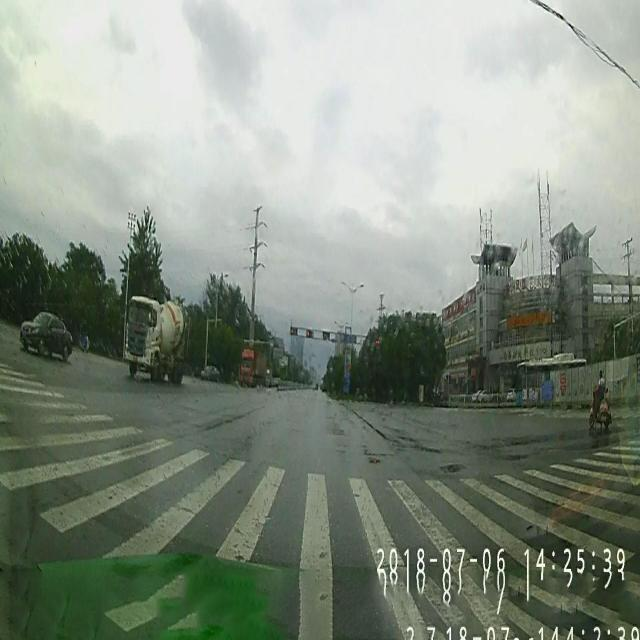car: (19, 311, 72, 363), (200, 363, 220, 381)
